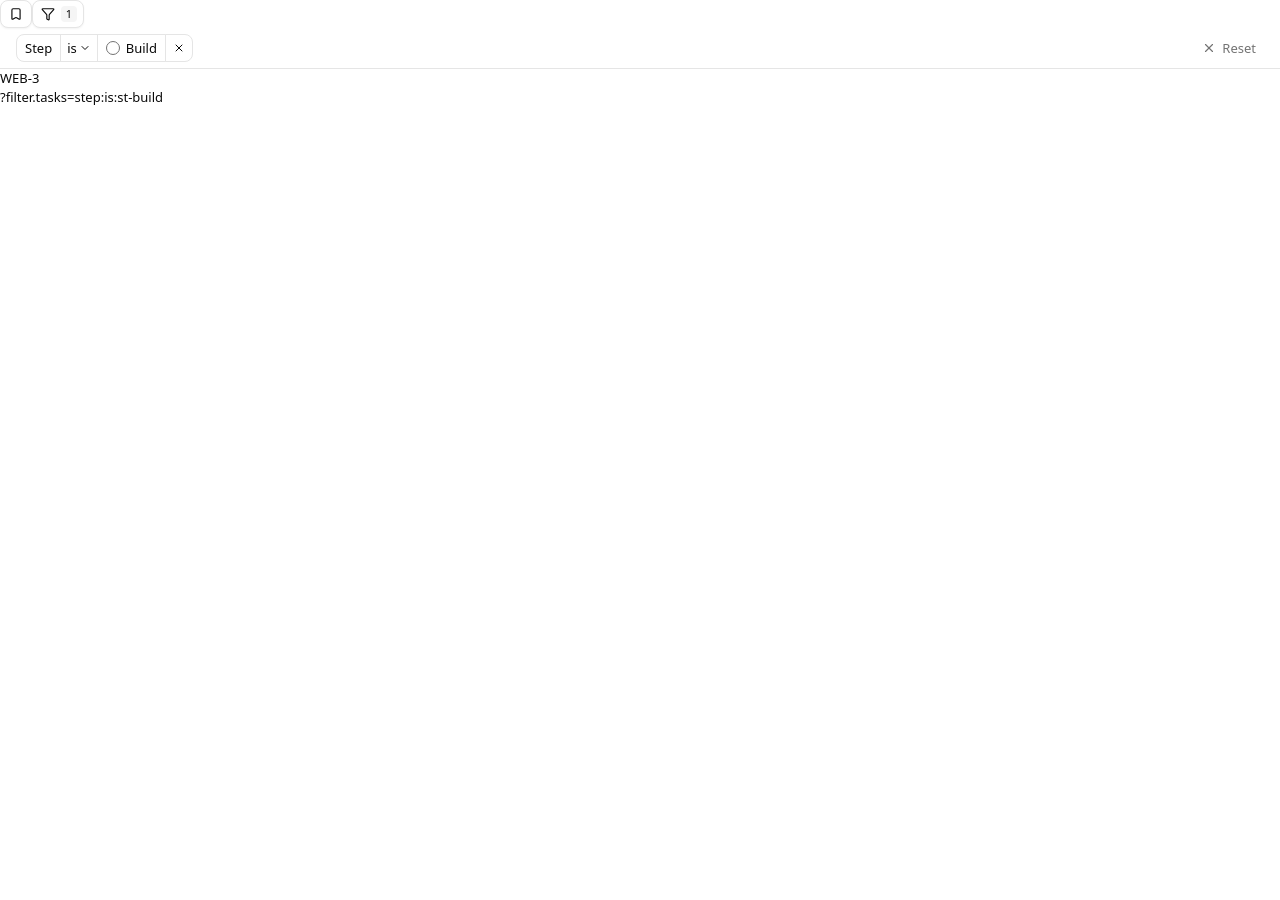
Test: Views › saves the pills under a name for the Project, and words a name already taken
Click the button named "Views": x=16, y=14 0,0 -> 32,28
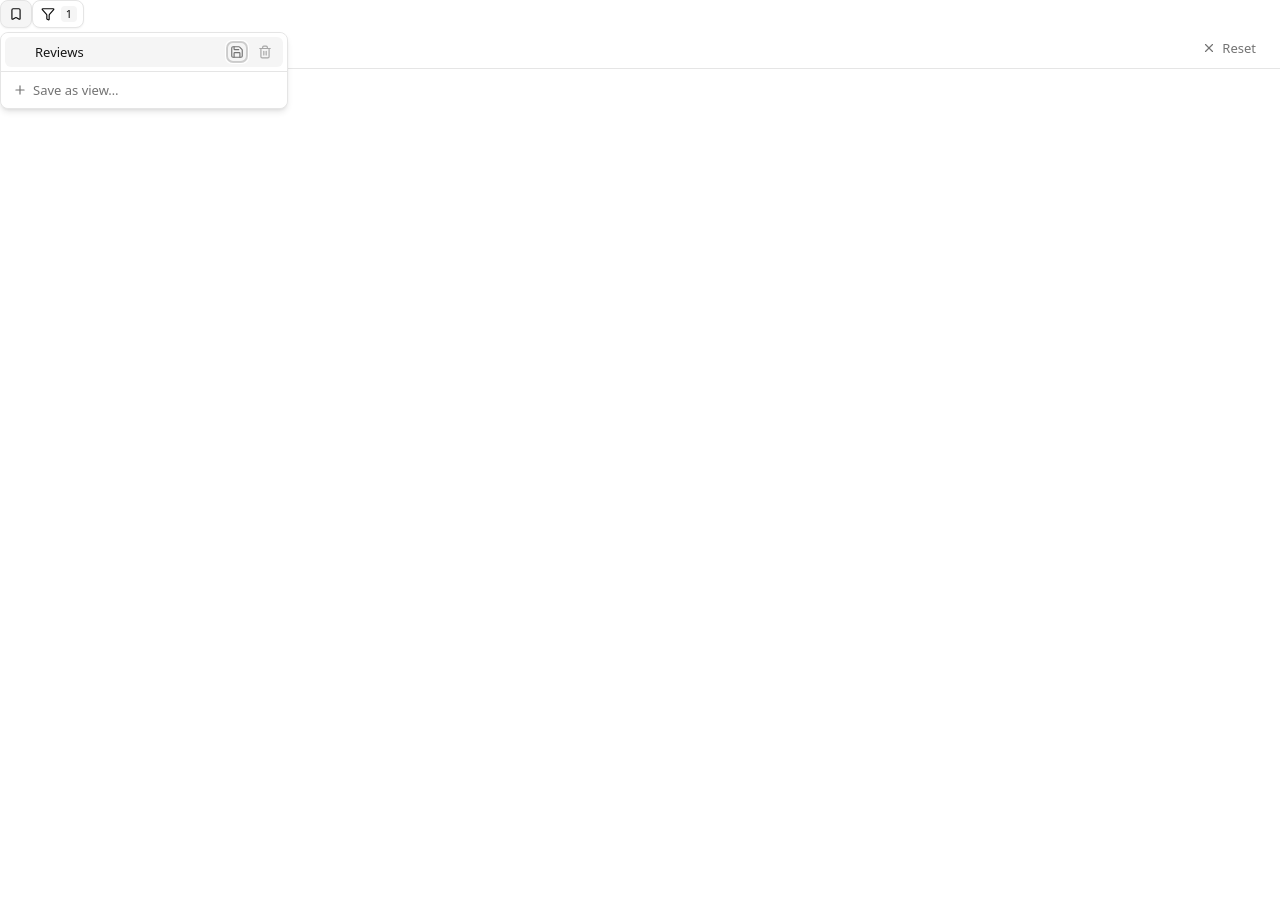
Click the button "Save as view…": x=76, y=90 5,76 -> 283,104
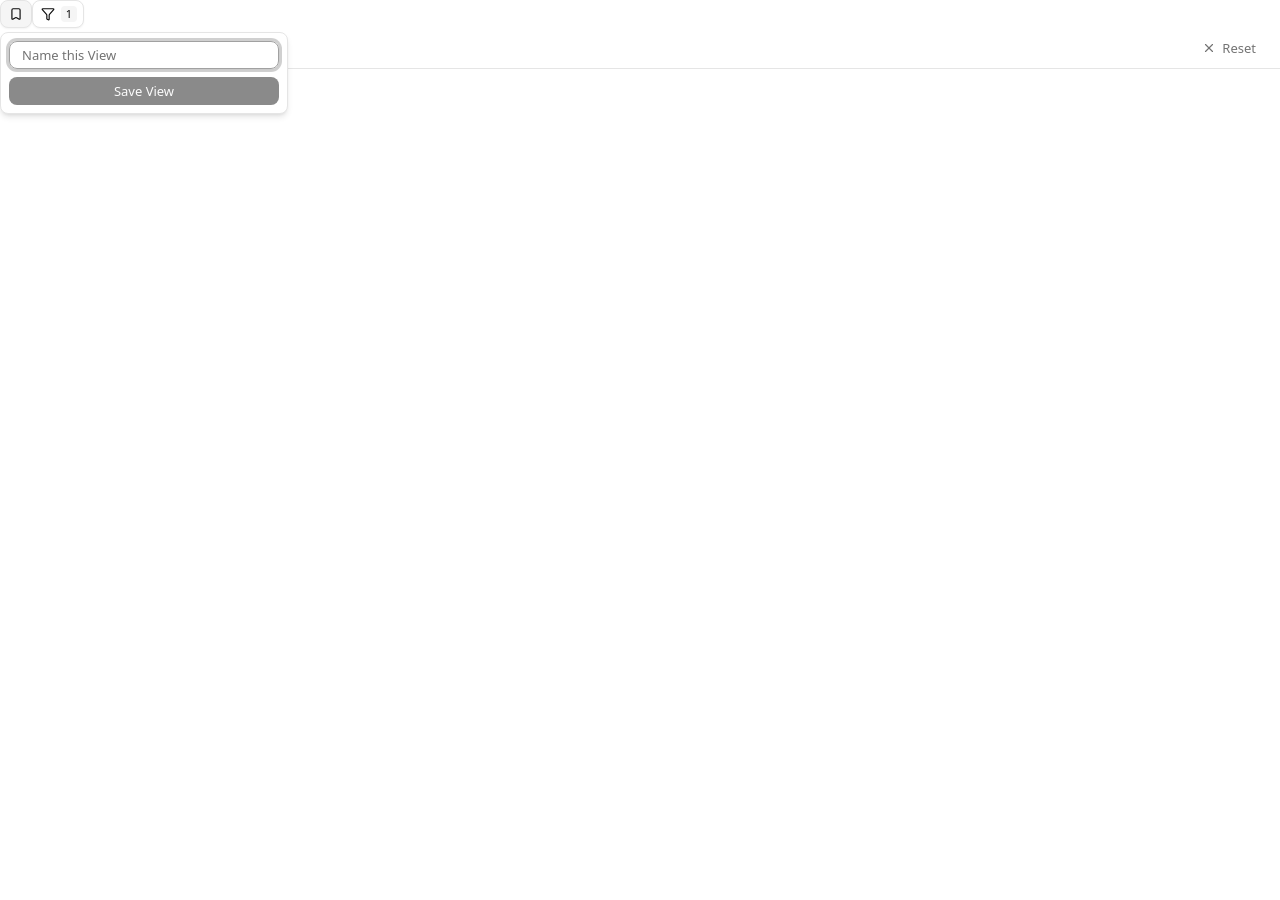
In the field labelled "View name": x=144, y=55 9,41 -> 279,69, type "Reviews"
Then press Enter
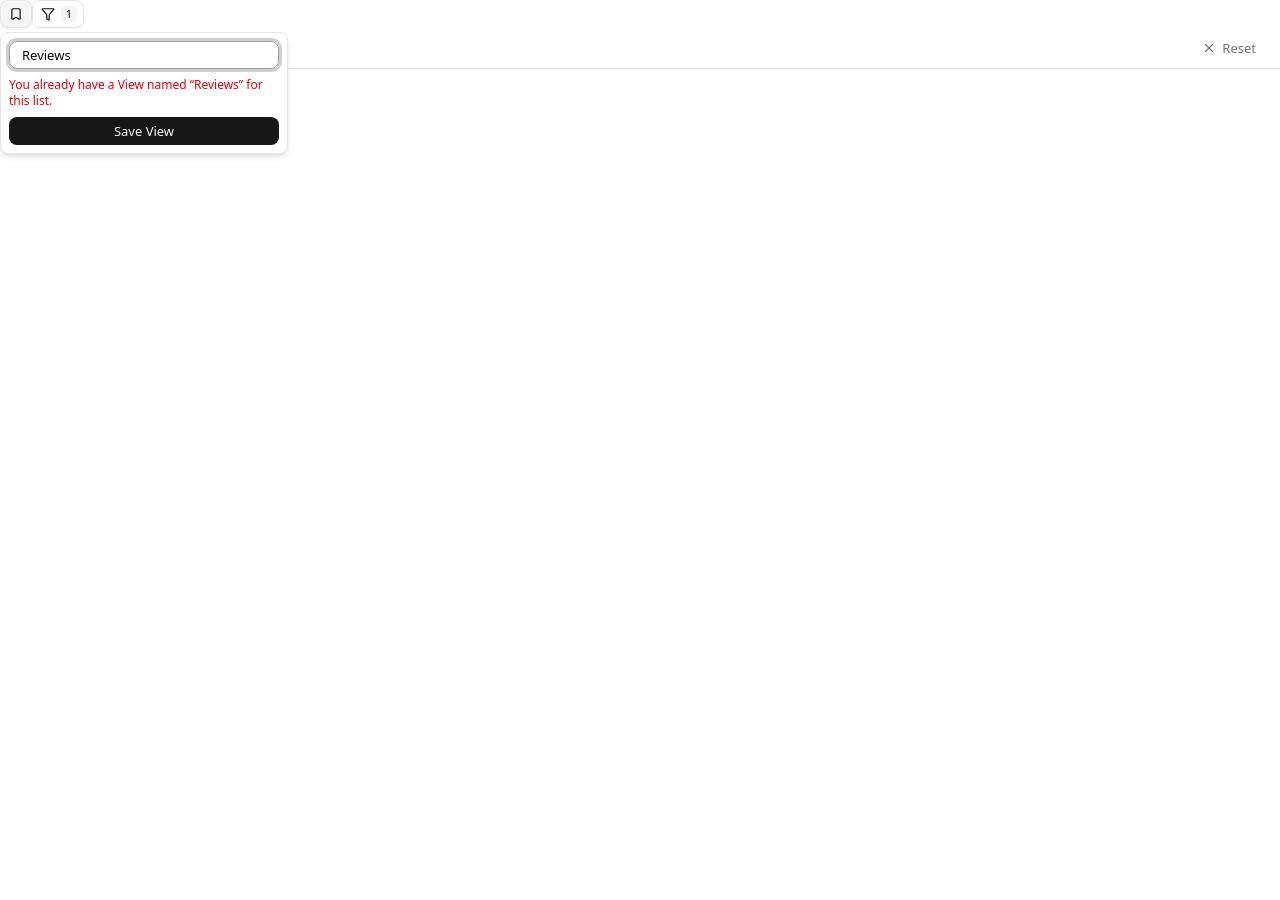
Check: the message reads "You already have a View named “Reviews” for this list.", box 9,76 -> 263,109
